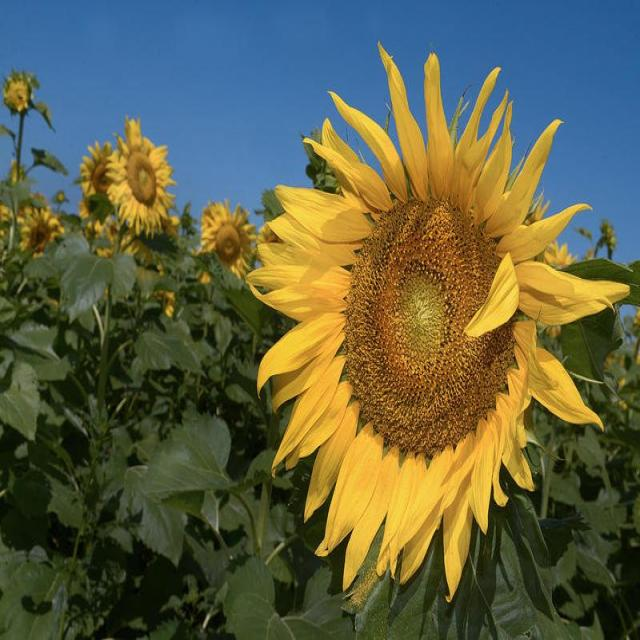sunflower: (231, 31, 632, 588)
